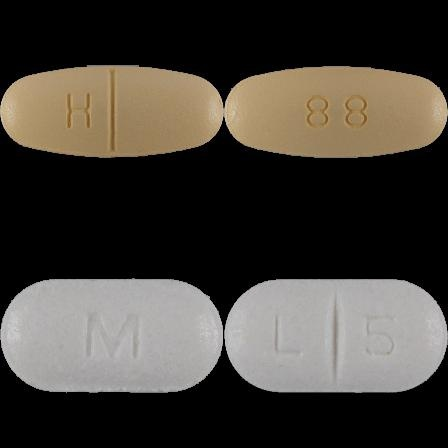53808-0602: (0, 0, 224, 224)
